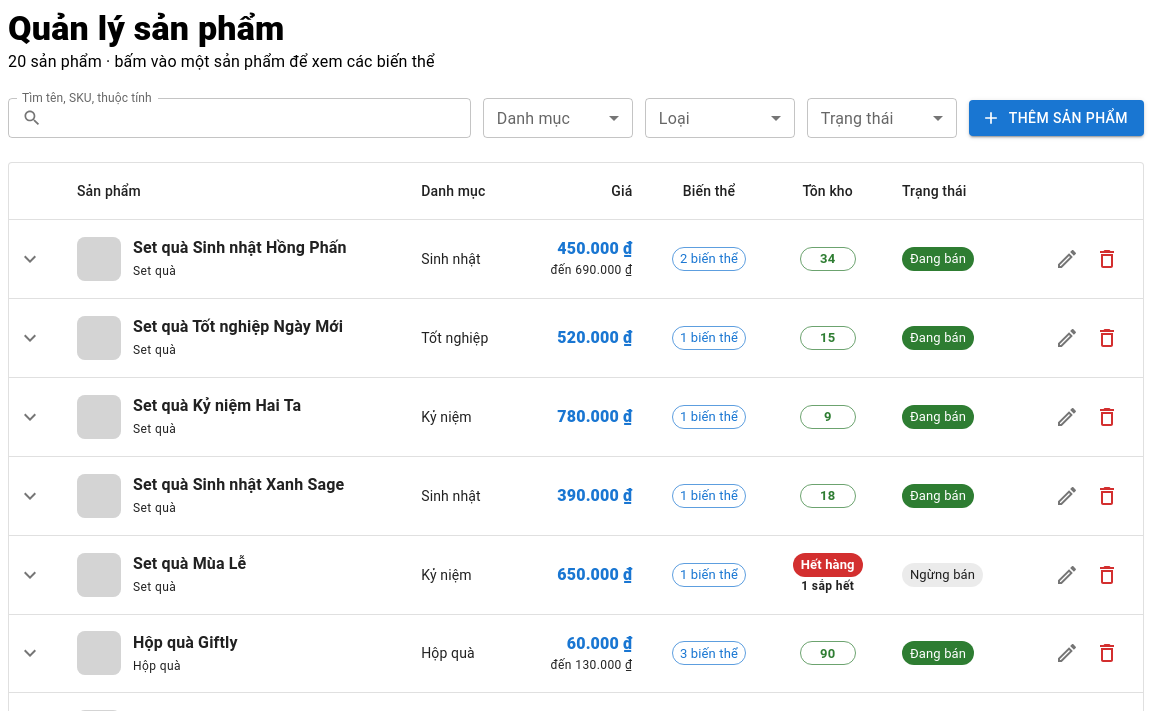
Test: AdminProductsPage (cha–biến thể) › ban đầu chỉ hiện sản phẩm cha; bấm vào mới hiện các biến thể với đủ thuộc tính
The width and height of the screenshot is (1152, 711).
Type "nen thom" into the field labelled "Tìm tên, SKU, thuộc tính".
click(260, 118); type("nen thom")  # box [50, 98, 471, 138]
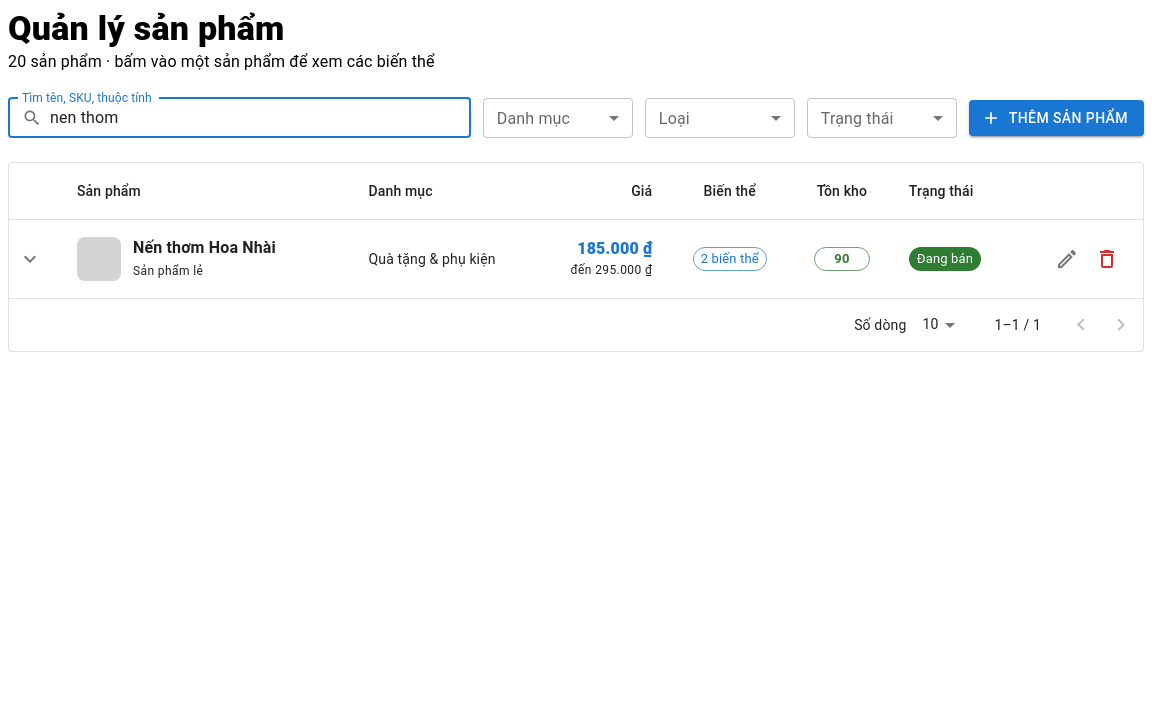
expect the text "CANDLE-100" is not shown: met
Click the row "Nến thơm Hoa Nhài".
click(576, 259)  # box [9, 220, 1143, 298]
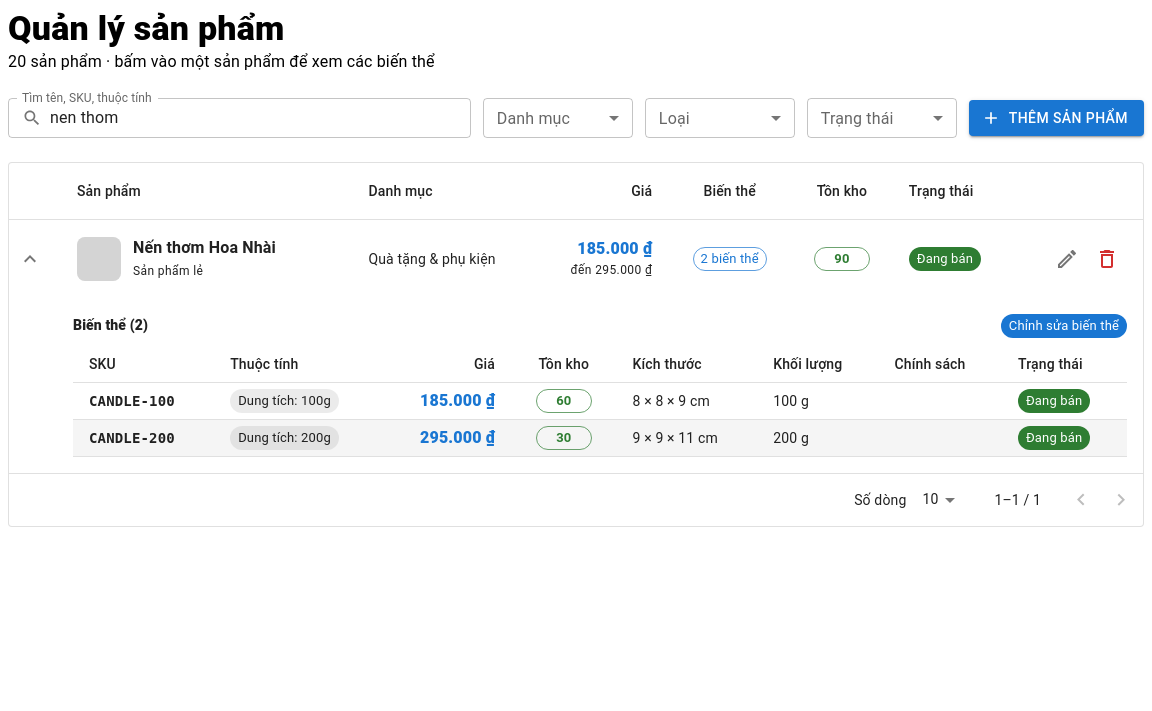
expect the text "CANDLE-100" is shown: met, box [73, 382, 214, 419]
expect the text "CANDLE-200" is shown: met, box [73, 419, 214, 456]
